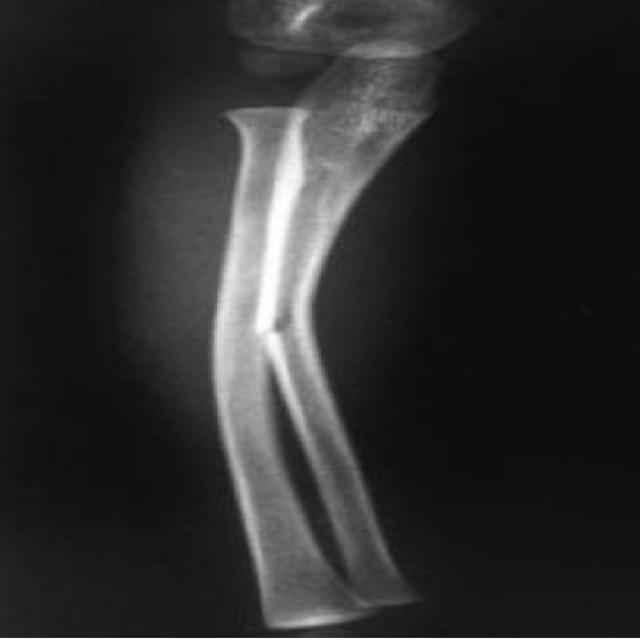Impacted: (192, 243, 345, 377)
